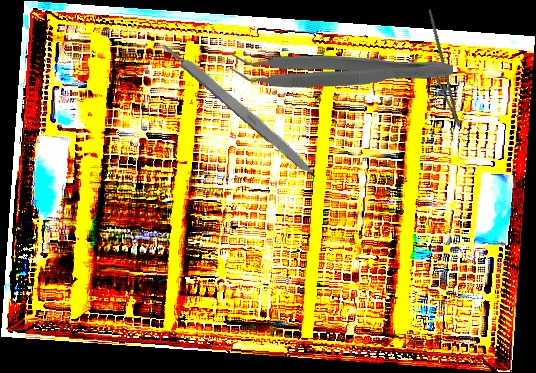Needle Holder: (405, 8, 475, 131)
Scalpel Handle: (160, 37, 321, 181)
Tissue Forceps: (229, 47, 454, 89)
